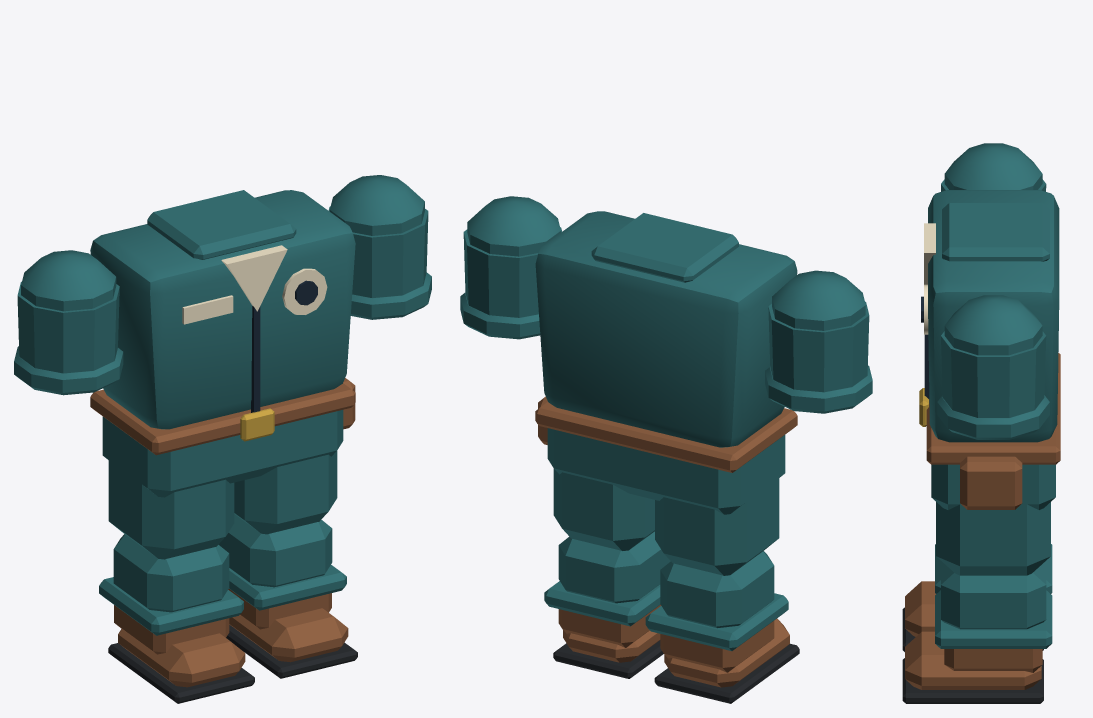
The model's file is Resident_Common.fbx.
The picture shows the model from 3 angles, left to right: view 1: azimuth 30°, elevation 25°; view 2: azimuth 150°, elevation 25°; view 3: azimuth 270°, elevation 25°; orthographic projection. The views are drawn at different scales.
Visible parts, largest first — view 1: UpperTorso, LowerTorso, RightUpperArm, RightLowerLeg, LeftUpperArm, LeftLowerLeg, RightUpperLeg, RightFoot, LeftUpperLeg, LeftFoot; view 2: UpperTorso, LowerTorso, RightUpperArm, RightLowerLeg, LeftUpperArm, LeftLowerLeg, RightUpperLeg, LeftUpperLeg, RightFoot, LeftFoot; view 3: UpperTorso, LeftUpperArm, LeftLowerLeg, LowerTorso, LeftUpperLeg, LeftFoot, RightUpperArm, RightFoot, RightLowerLeg.
Boxes of the visible parts, bbox=[...] form: UpperTorso: bbox=[90, 190, 355, 429]; LowerTorso: bbox=[90, 378, 355, 497]; RightUpperArm: bbox=[14, 250, 123, 395]; RightLowerLeg: bbox=[99, 534, 243, 654]; LeftUpperArm: bbox=[328, 175, 431, 319]; LeftLowerLeg: bbox=[218, 514, 346, 629]; RightUpperLeg: bbox=[108, 459, 234, 559]; RightFoot: bbox=[108, 629, 254, 703]; LeftUpperLeg: bbox=[234, 451, 337, 534]; LeftFoot: bbox=[226, 608, 357, 678]; UpperTorso: bbox=[535, 211, 797, 447]; LowerTorso: bbox=[535, 396, 797, 514]; RightUpperArm: bbox=[765, 270, 872, 413]; RightLowerLeg: bbox=[645, 551, 788, 672]; LeftUpperArm: bbox=[460, 196, 561, 339]; LeftLowerLeg: bbox=[544, 531, 670, 647]; RightUpperLeg: bbox=[655, 477, 779, 575]; LeftUpperLeg: bbox=[553, 468, 654, 550]; RightFoot: bbox=[654, 618, 799, 703]; LeftFoot: bbox=[553, 630, 663, 678]; UpperTorso: bbox=[921, 190, 1059, 442]; LeftUpperArm: bbox=[937, 295, 1049, 439]; LeftLowerLeg: bbox=[935, 561, 1052, 672]; LowerTorso: bbox=[919, 353, 1060, 509]; LeftUpperLeg: bbox=[936, 502, 1050, 575]; LeftFoot: bbox=[902, 631, 1043, 703]; RightUpperArm: bbox=[941, 143, 1046, 191]; RightFoot: bbox=[902, 581, 1043, 651]; RightLowerLeg: bbox=[935, 544, 1052, 593].
Size of the model in its own units: 3.89 by 5.8 by 1.48.
